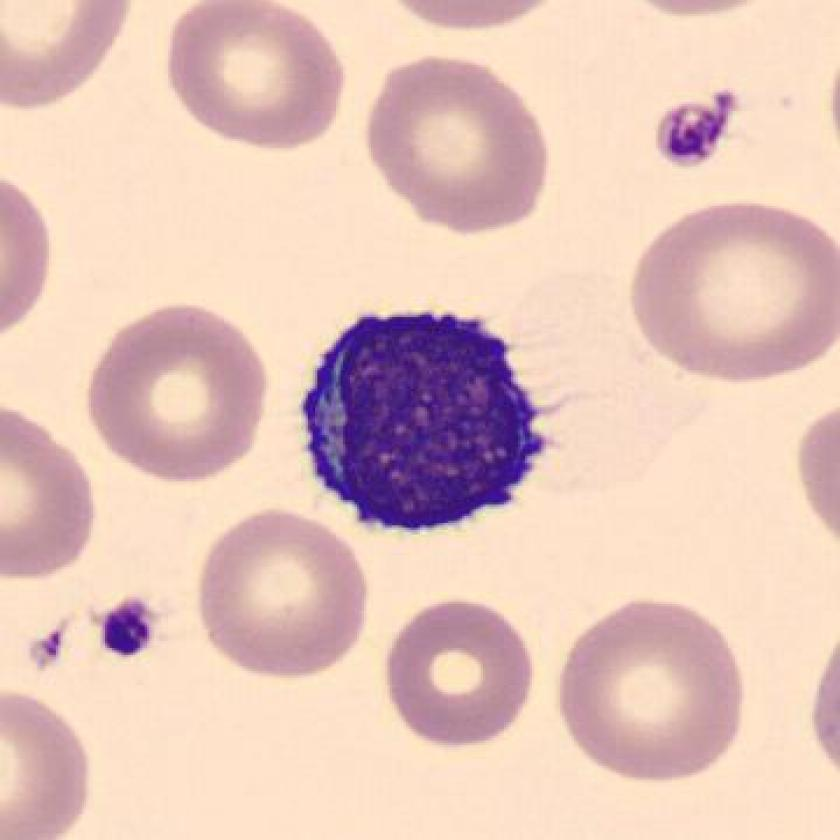lymphocyte: (290, 293, 561, 552)
platelets: (647, 91, 750, 172), (95, 589, 162, 661)
